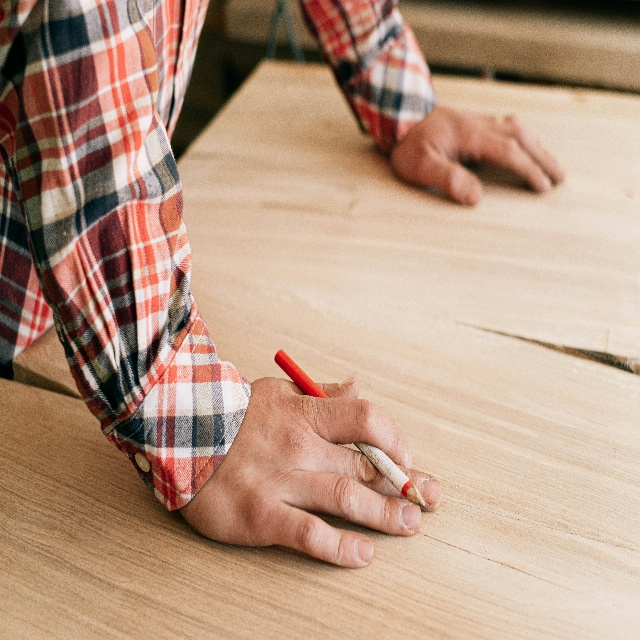Sin_guantes: (179, 362, 443, 571), (393, 95, 566, 212)
